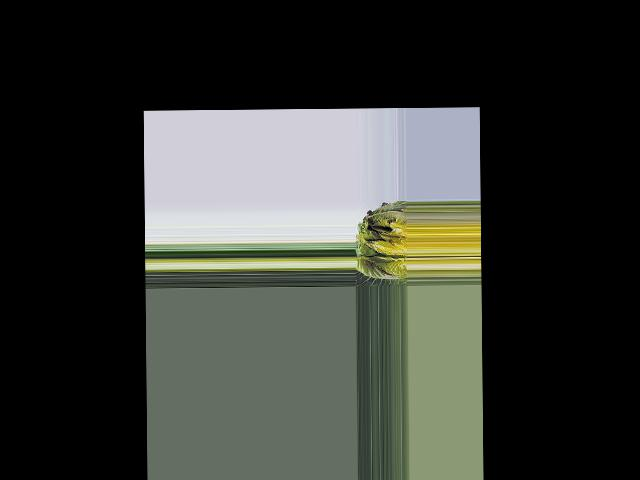lettuce: (356, 203, 408, 286)
